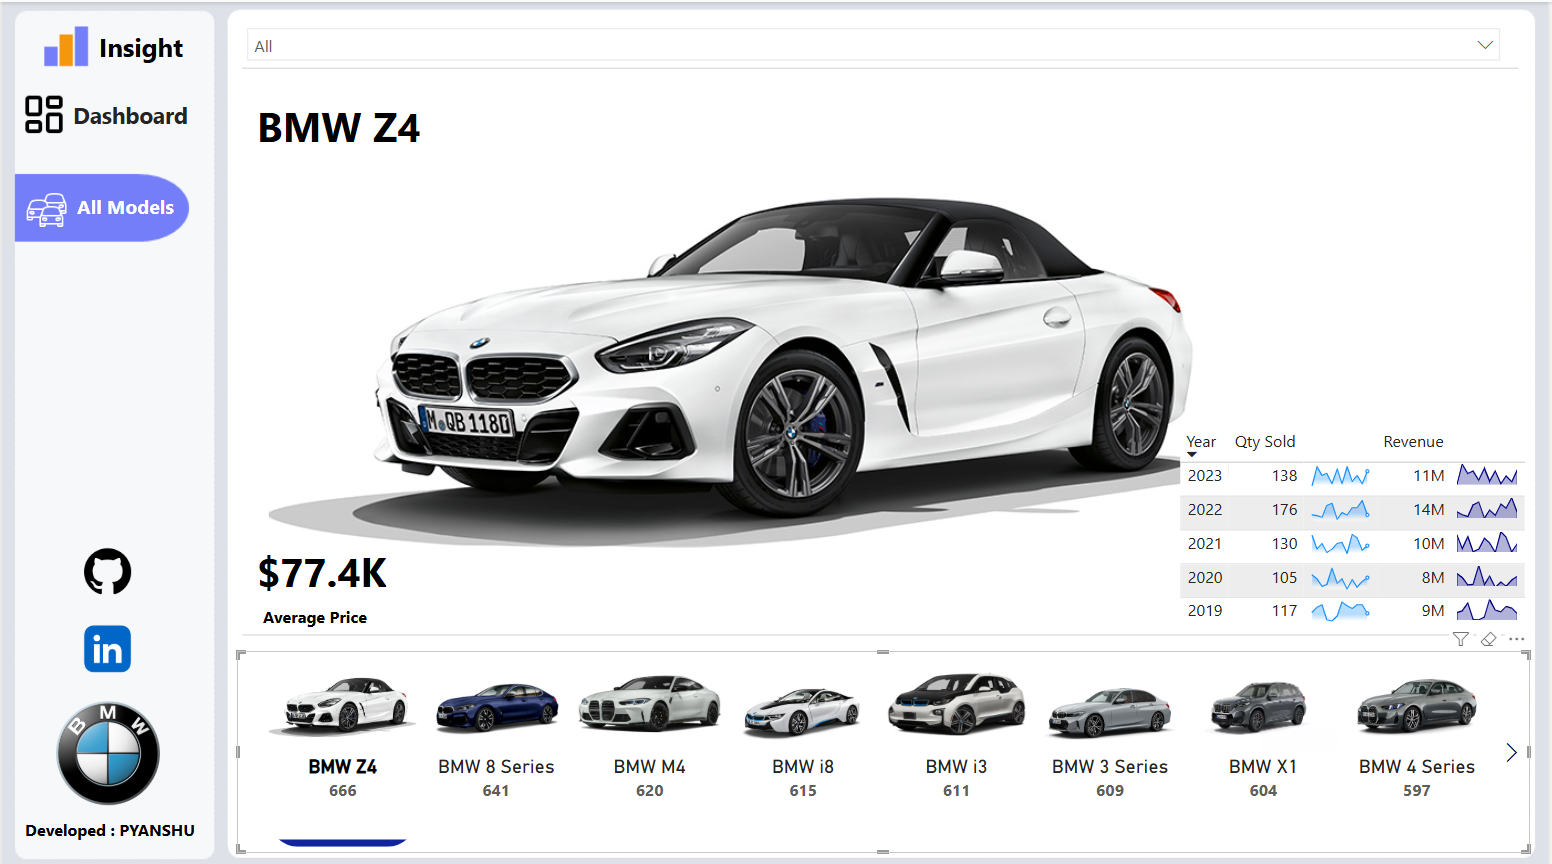

The page's visual inventory and layout, read from the dashboard file:
{"tool":"powerbi","page":{"name":"All Model","canvas":[1280,720],"ordinal":1},"visuals":[{"type":"slicer","fields":{"Values":["dimModel.Model"]},"box":[192.8,11.3,1057.3,73.7],"z":0},{"type":"advancedSlicerVisual","fields":{"Values":["dimModel.Model"]},"box":[194.2,537.2,1070.1,167.2],"z":1000},{"type":"advancedSlicerVisual","fields":{"Values":["dimModel.Model"]},"box":[194.2,59.5,867.4,462],"z":2000},{"type":"shape","box":[211.2,69.4,494.6,63.8],"z":3000},{"type":"shape","box":[211.2,438,494.6,63.8],"z":4000},{"type":"textbox","box":[211.2,494.6,134.6,42.5],"z":5000},{"type":"tableEx","fields":{"Values":["Calendar.Year","New Measure.Qty Sold","New Measure.Qty Sold Sparkline","New Measure.Revenue","New Measure.Revenue Sparkline"]},"box":[969.4,348.7,300.5,177.2],"z":6000},{"type":"textbox","box":[56.7,153.1,154.5,42.5],"z":7000},{"type":"image","box":[12.8,150.2,49.6,42.5],"z":8000},{"type":"textbox","box":[53.9,76.5,154.5,42.5],"z":9000},{"type":"image","box":[8.5,69.4,53.9,46.8],"z":10000},{"type":"actionButton","box":[8.5,73.7,168.7,39.7],"z":11000},{"type":"textbox","box":[75.1,17,154.5,42.5],"z":12000},{"type":"image","box":[28.3,9.9,49.6,49.6],"z":13000},{"type":"image","box":[39.7,572.6,96.4,97.8],"z":14000},{"type":"image","box":[49,504.5,77.4,60.6],"z":15000},{"type":"image","box":[63.2,438.7,49,65.8],"z":16000},{"type":"textbox","box":[14.2,671,193.5,42.6],"z":17000}]}

Visuals, with their boxes on the page's 1280x720 design canvas (x1, y1, x2, y2). These are canvas units, not pixel positions in the 1552x864 screenshot, which may show the page scaled, cropped or inside an application window:
slicer - dimModel.Model: <box>193,11,1250,85</box>
advancedSlicerVisual - dimModel.Model: <box>194,537,1264,704</box>
advancedSlicerVisual - dimModel.Model: <box>194,60,1062,522</box>
shape: <box>211,69,706,133</box>
shape: <box>211,438,706,502</box>
textbox: <box>211,495,346,537</box>
tableEx - Calendar.Year x New Measure.Qty Sold: <box>969,349,1270,526</box>
textbox: <box>57,153,211,196</box>
image: <box>13,150,62,193</box>
textbox: <box>54,76,208,119</box>
image: <box>8,69,62,116</box>
actionButton: <box>8,74,177,113</box>
textbox: <box>75,17,230,60</box>
image: <box>28,10,78,60</box>
image: <box>40,573,136,670</box>
image: <box>49,504,126,565</box>
image: <box>63,439,112,504</box>
textbox: <box>14,671,208,714</box>
